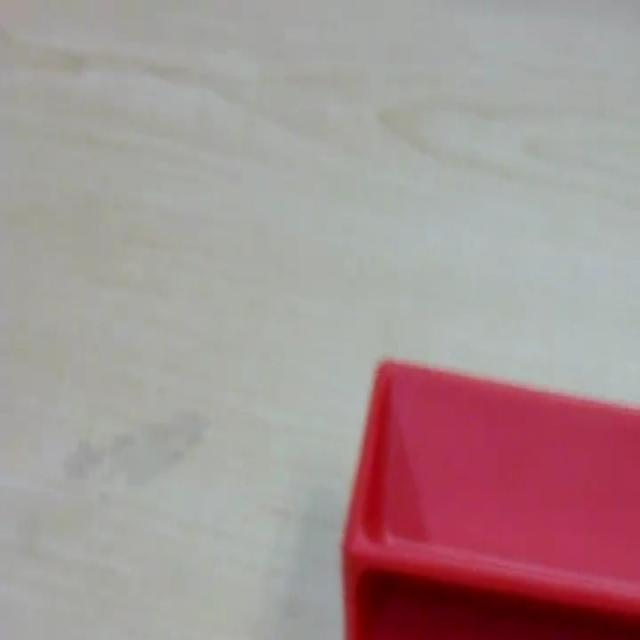red_block: (341, 353, 638, 638)
